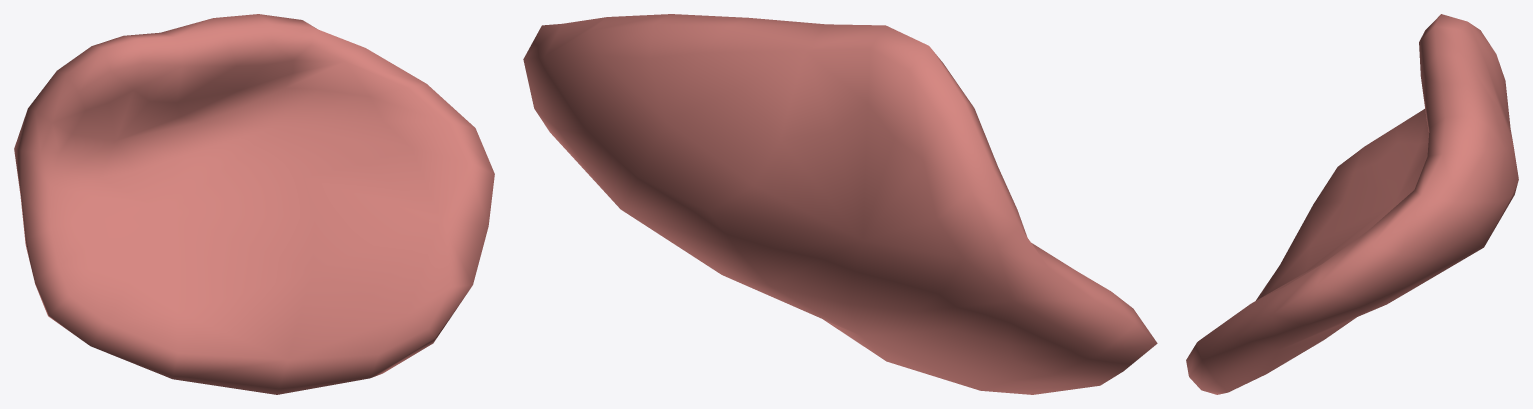
The picture shows the model from 3 angles, left to right: view 1: azimuth 30°, elevation 25°; view 2: azimuth 150°, elevation 25°; view 3: azimuth 270°, elevation 25°; orthographic projection. The views are drawn at different scales.
Visible parts, largest first — view 1: ZA_6d1b334c07ccb529; view 2: ZA_6d1b334c07ccb529; view 3: ZA_6d1b334c07ccb529.
Part boxes in pixels (x1,y1,x2,y2): ZA_6d1b334c07ccb529: (14, 14, 494, 394); ZA_6d1b334c07ccb529: (523, 14, 1157, 394); ZA_6d1b334c07ccb529: (1186, 14, 1518, 394).
Bounding box in the file's own units: 0.0036 × 0.00249 × 0.00244.
